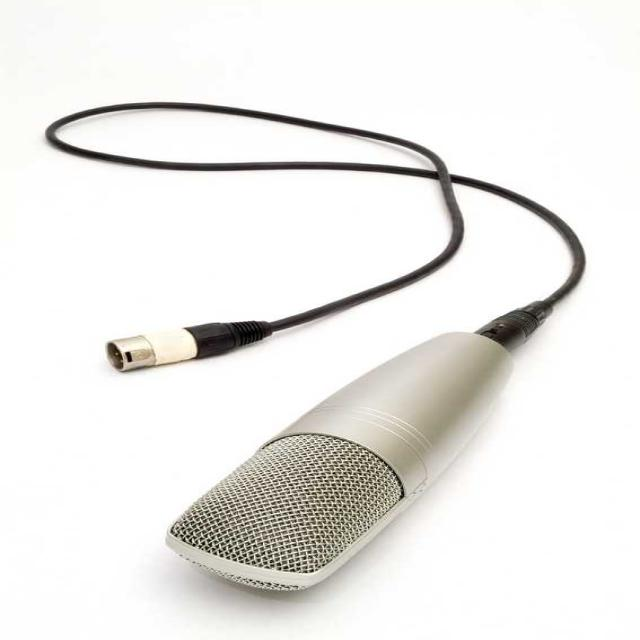microphone: (167, 307, 539, 591)
